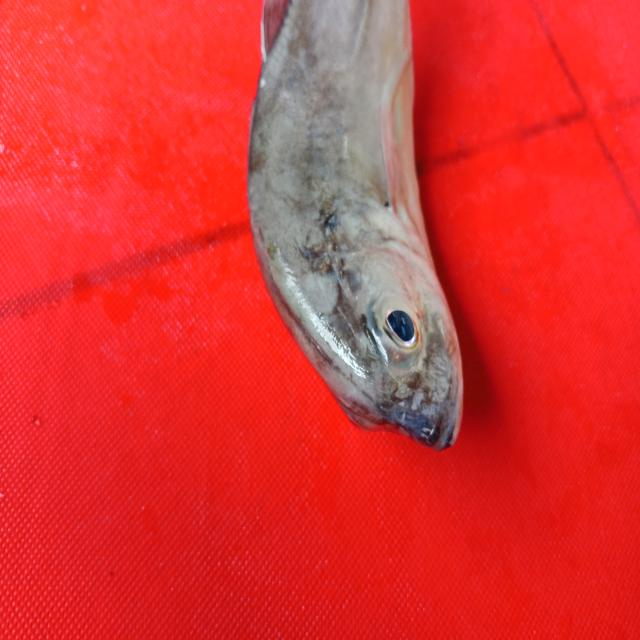ikan: (222, 8, 493, 464)
